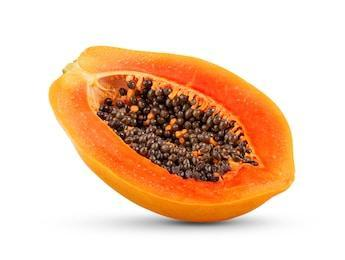papaya: (51, 46, 294, 224)
